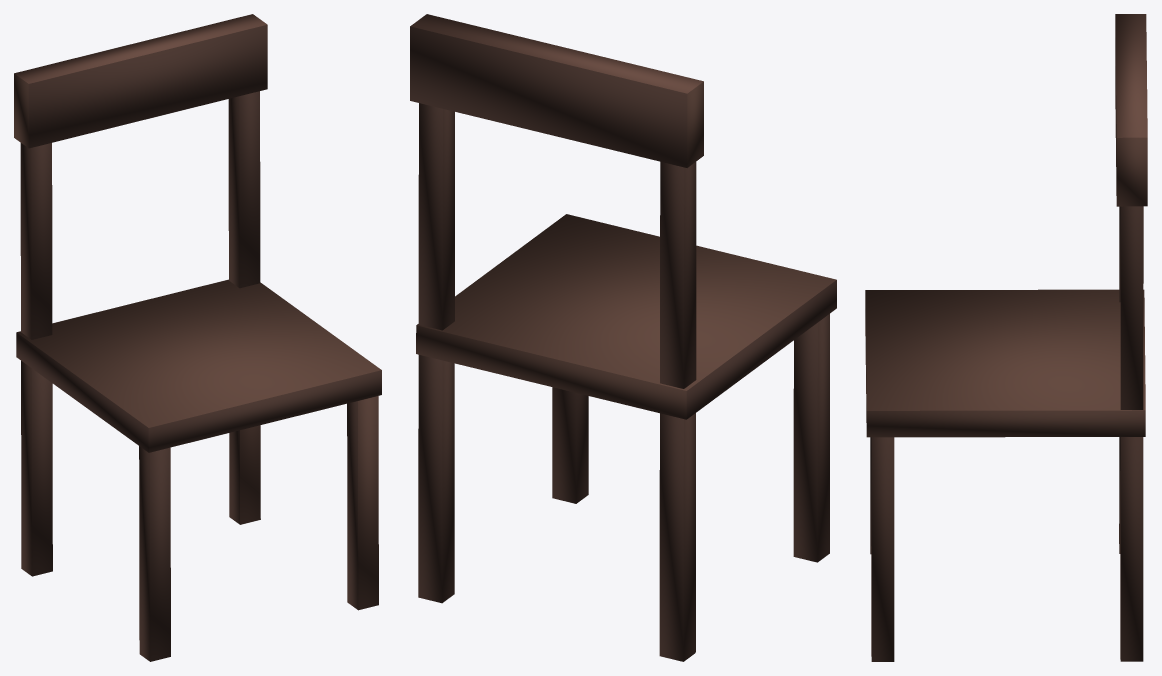
File: furnishings-chairs-plainwoodchair_v1.glb
3 views of the same model, side by side, from view 1: azimuth 30°, elevation 25°; view 2: azimuth 150°, elevation 25°; view 3: azimuth 270°, elevation 25° (orthographic). The views are drawn at different scales.
Visible parts, largest first — view 1: PlainWoodChair.001; view 2: PlainWoodChair.001; view 3: PlainWoodChair.001.
Boxes of the visible parts, x1,y1,x2,y2 form: PlainWoodChair.001: (14, 14, 381, 661); PlainWoodChair.001: (410, 14, 836, 661); PlainWoodChair.001: (865, 14, 1147, 661).
Size of the model in its own units: 0.4671 by 0.9227 by 0.4484.
